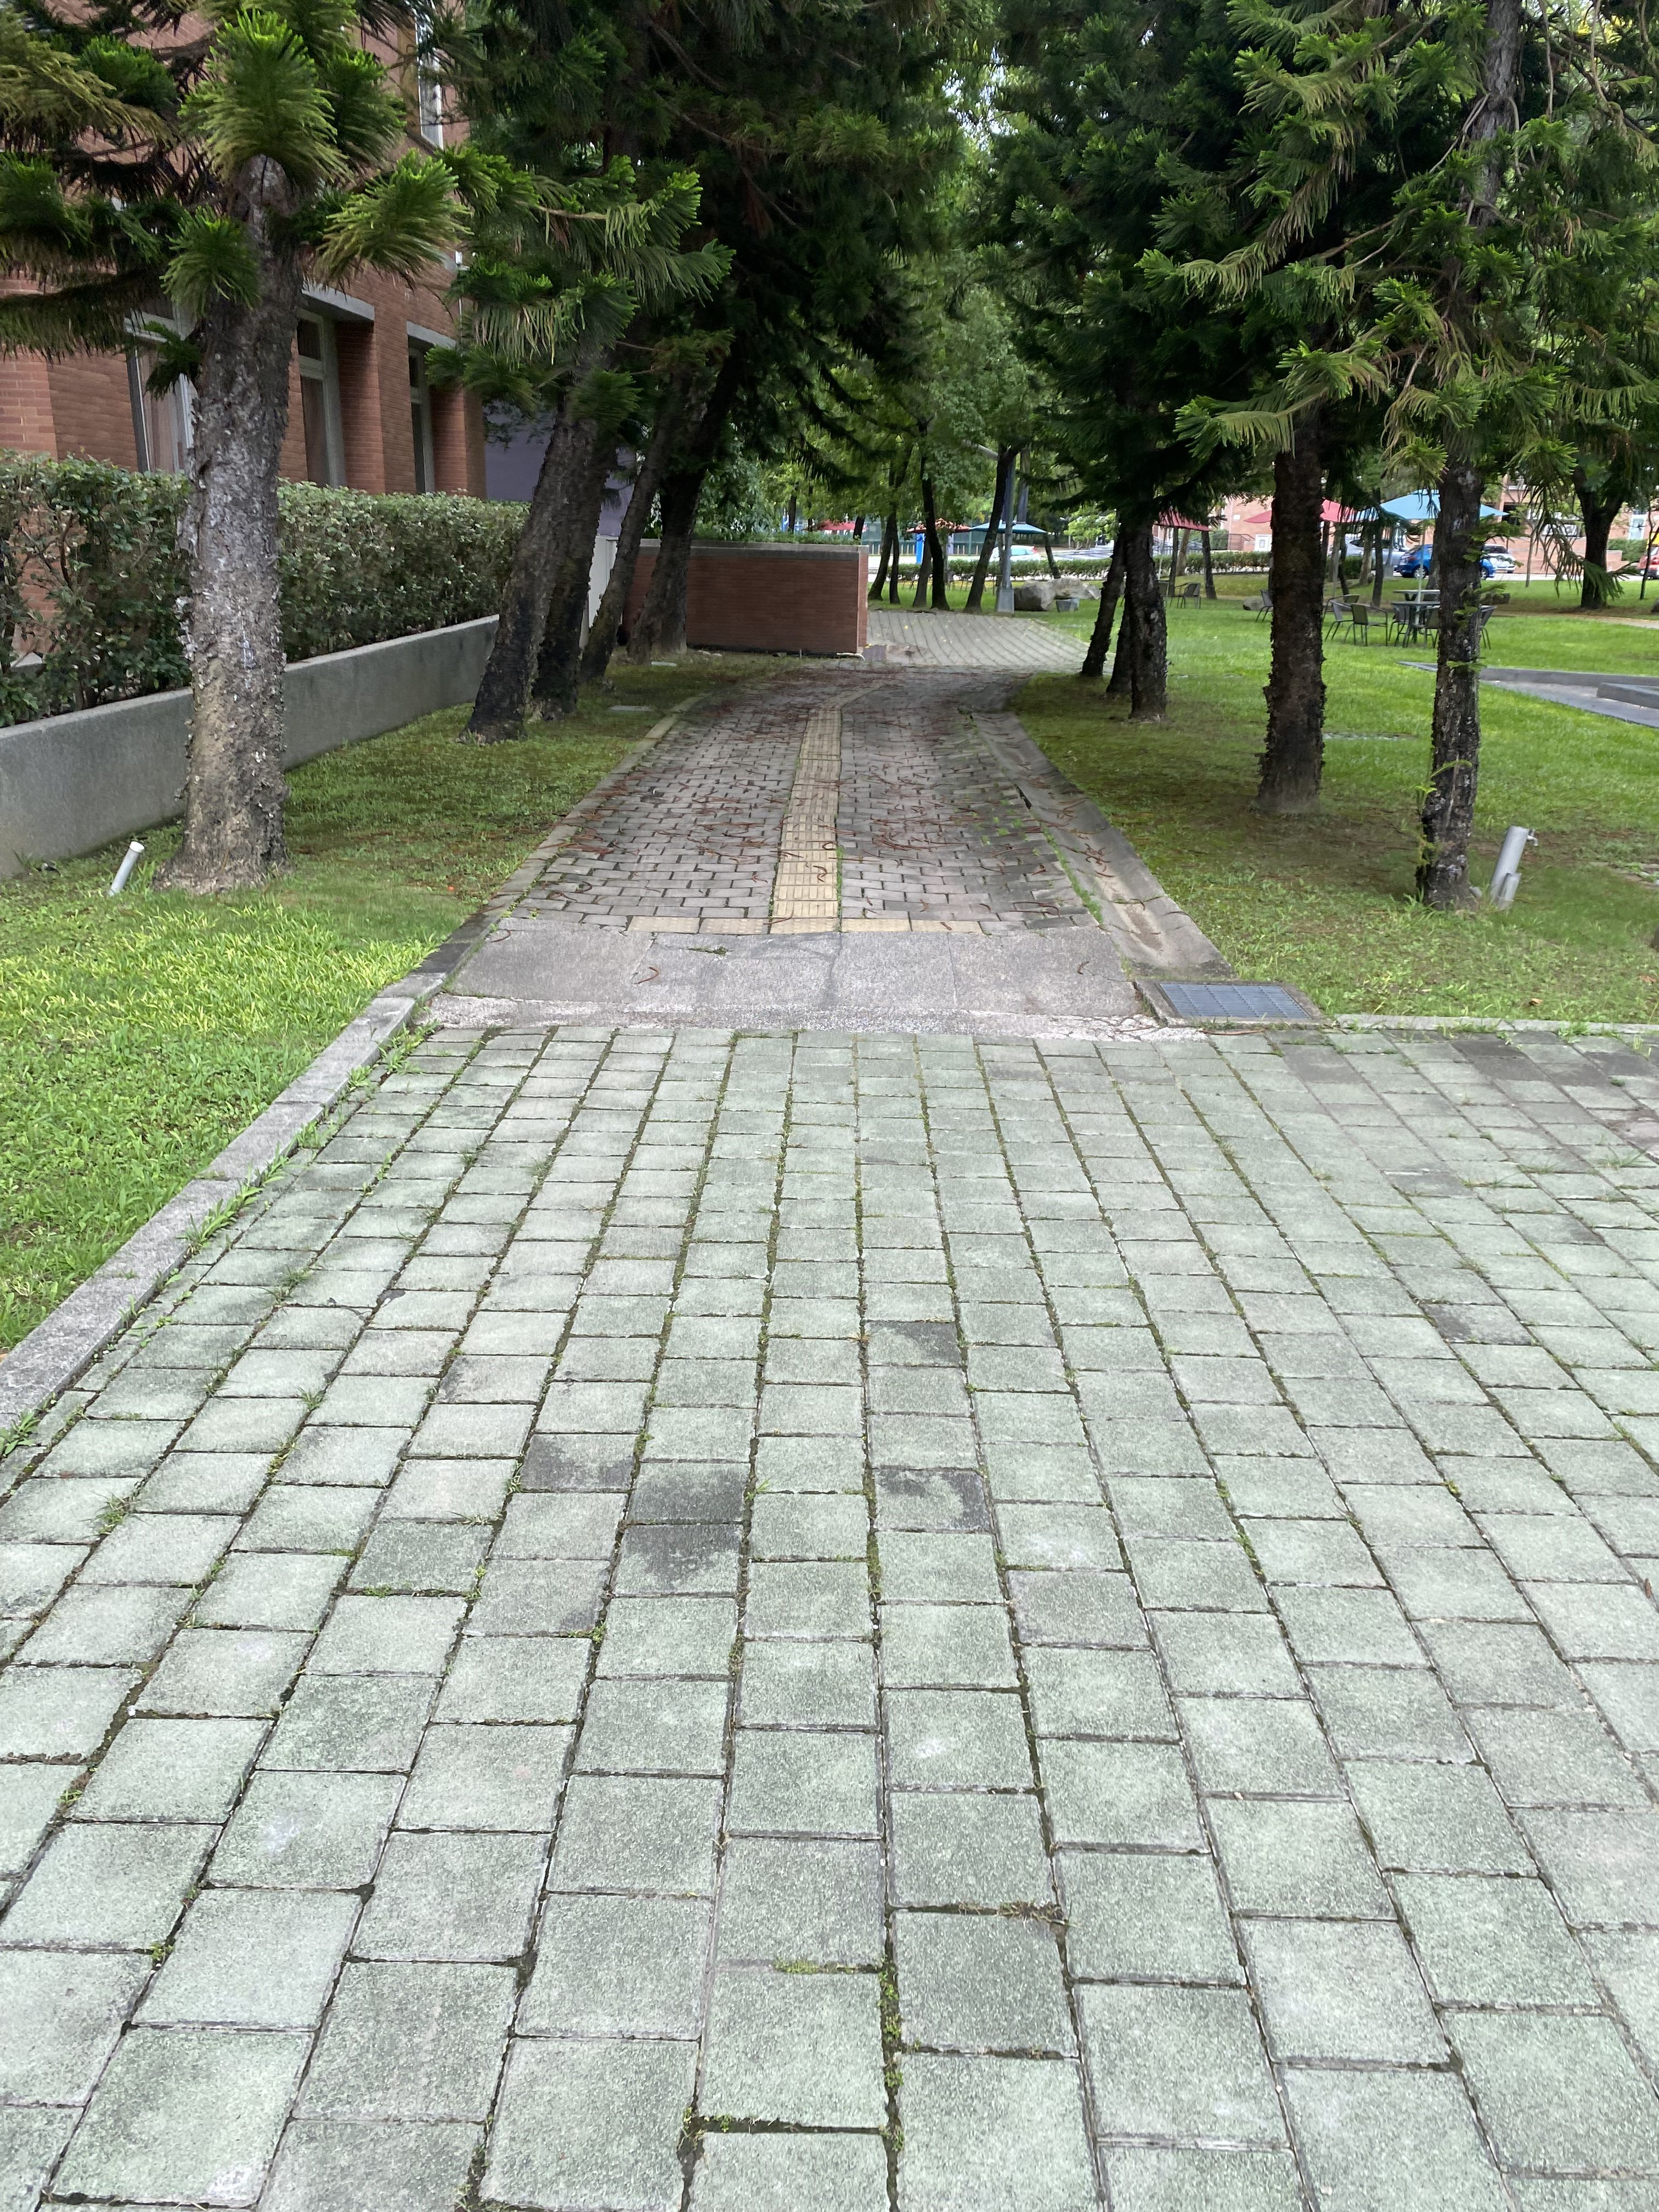sidewalk: (251, 583, 1356, 2212)
